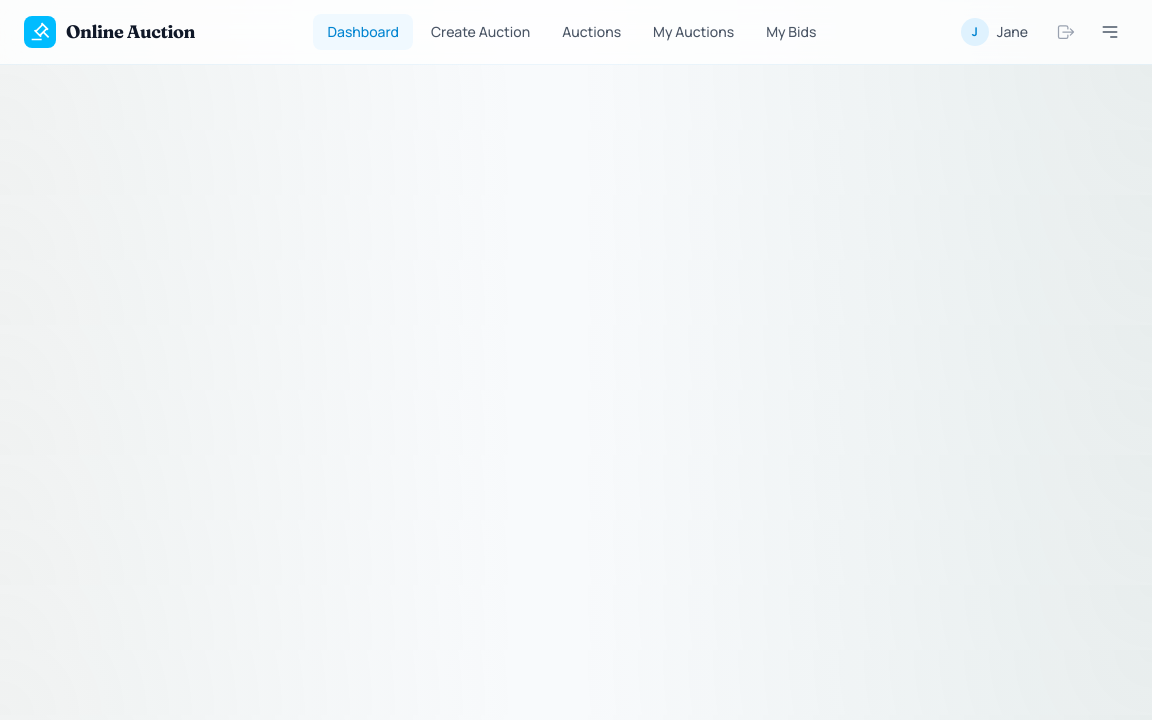
Test case: ModernNavbar › Drawer Content - Authenticated › should display user profile in drawer for authenticated users
The width and height of the screenshot is (1152, 720).
Click the button named "toggle menu" at [1110, 32], box [1092,14,1128,50]
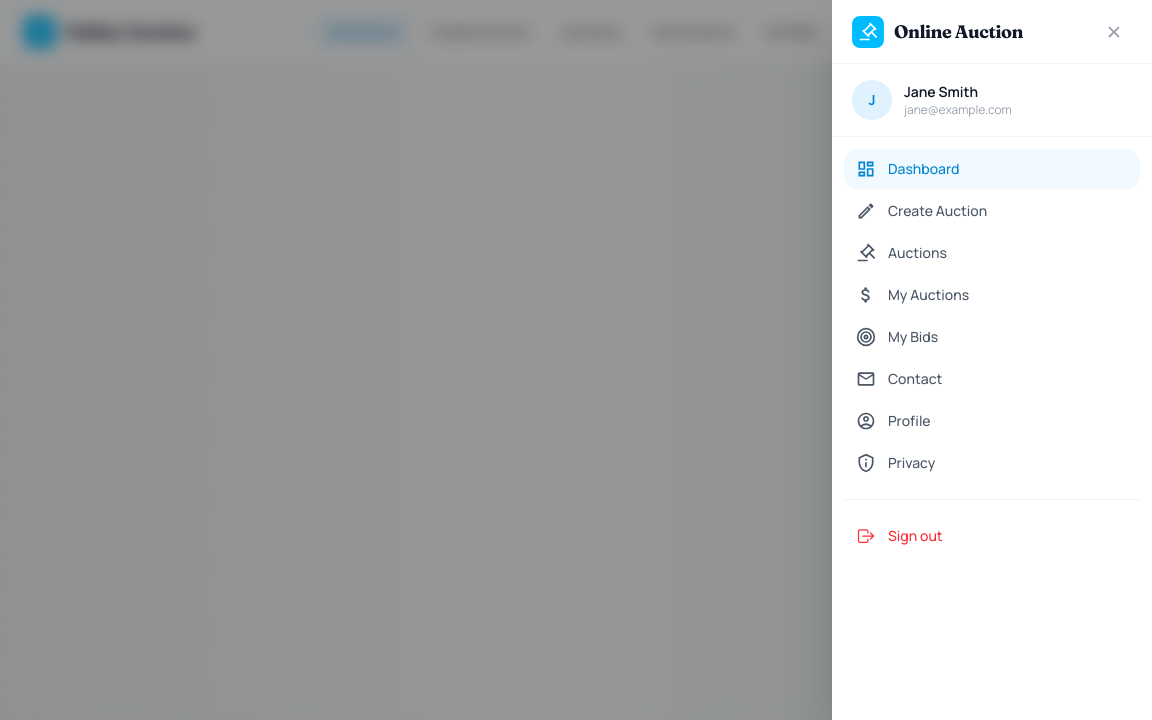
Check: the text "Jane Smith" is shown, box [904,82,978,101]
Check: the text "jane@example.com" is shown, box [904,102,1012,118]
